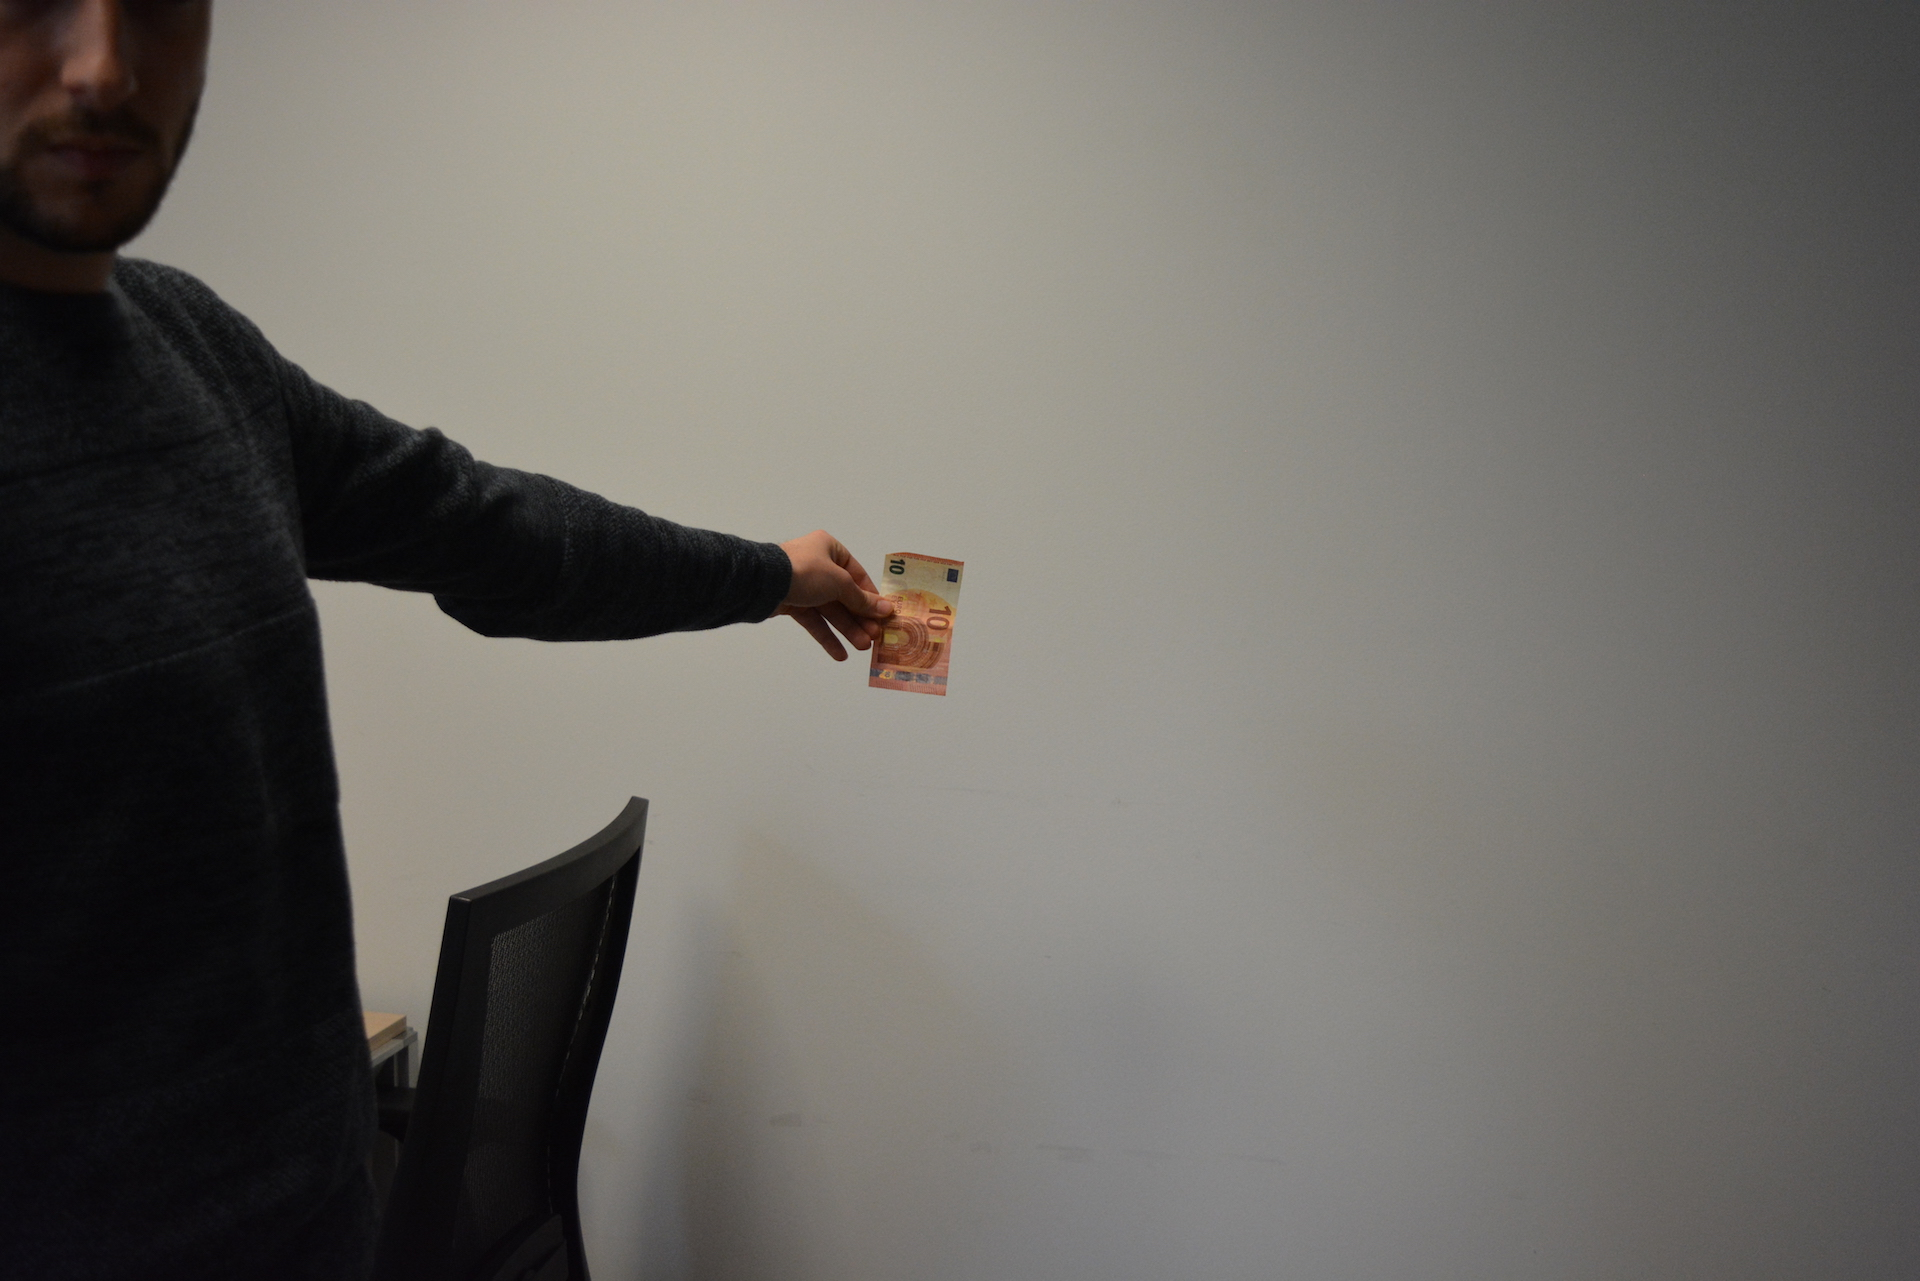billete: (866, 550, 966, 698)
